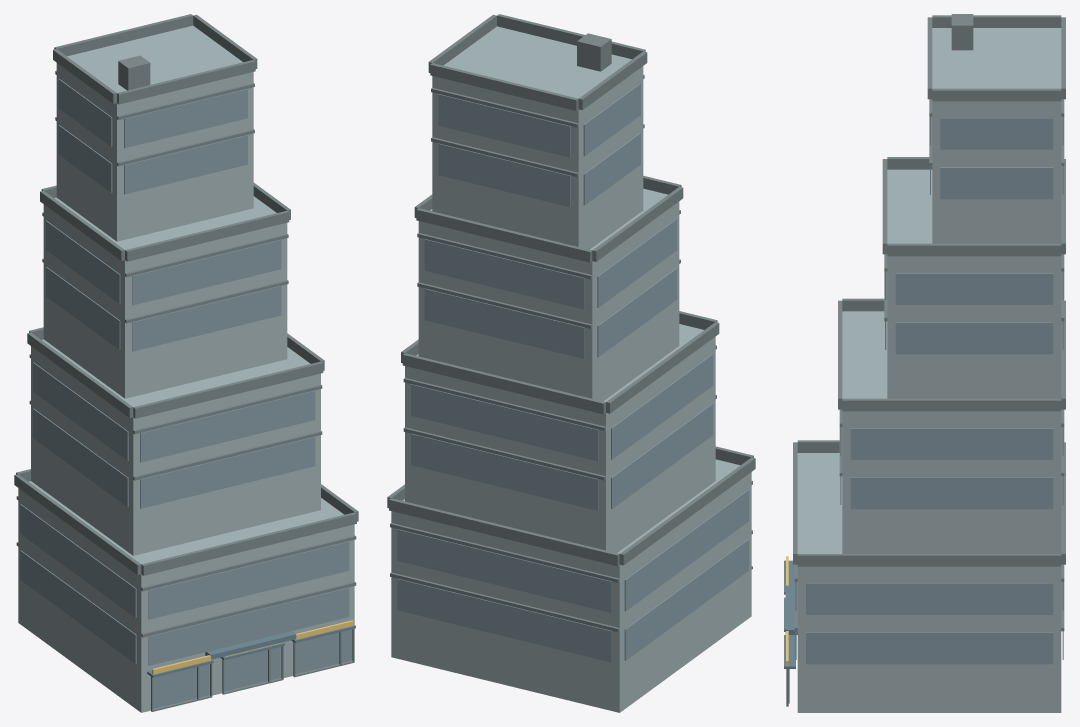
The model's file is commercial_2x2_terraces.glb.
3 views of the same model, side by side, from view 1: azimuth 30°, elevation 25°; view 2: azimuth 150°, elevation 25°; view 3: azimuth 270°, elevation 25° (orthographic). The views are drawn at different scales.
Visible parts, largest first — view 1: commercial_2x2_terraces_0; view 2: commercial_2x2_terraces_0; view 3: commercial_2x2_terraces_0.
Boxes of the visible parts, x1,y1,x2,y2 form: commercial_2x2_terraces_0: (14,14,358,712); commercial_2x2_terraces_0: (387,14,755,712); commercial_2x2_terraces_0: (784,14,1065,712).
Bounding box in the file's own units: 15 × 37.5 × 15.5.
